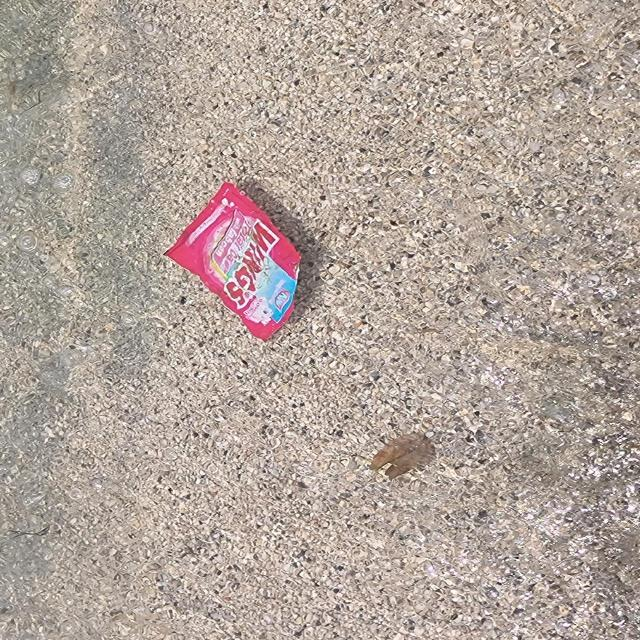plastic_waste: (162, 182, 304, 345)
